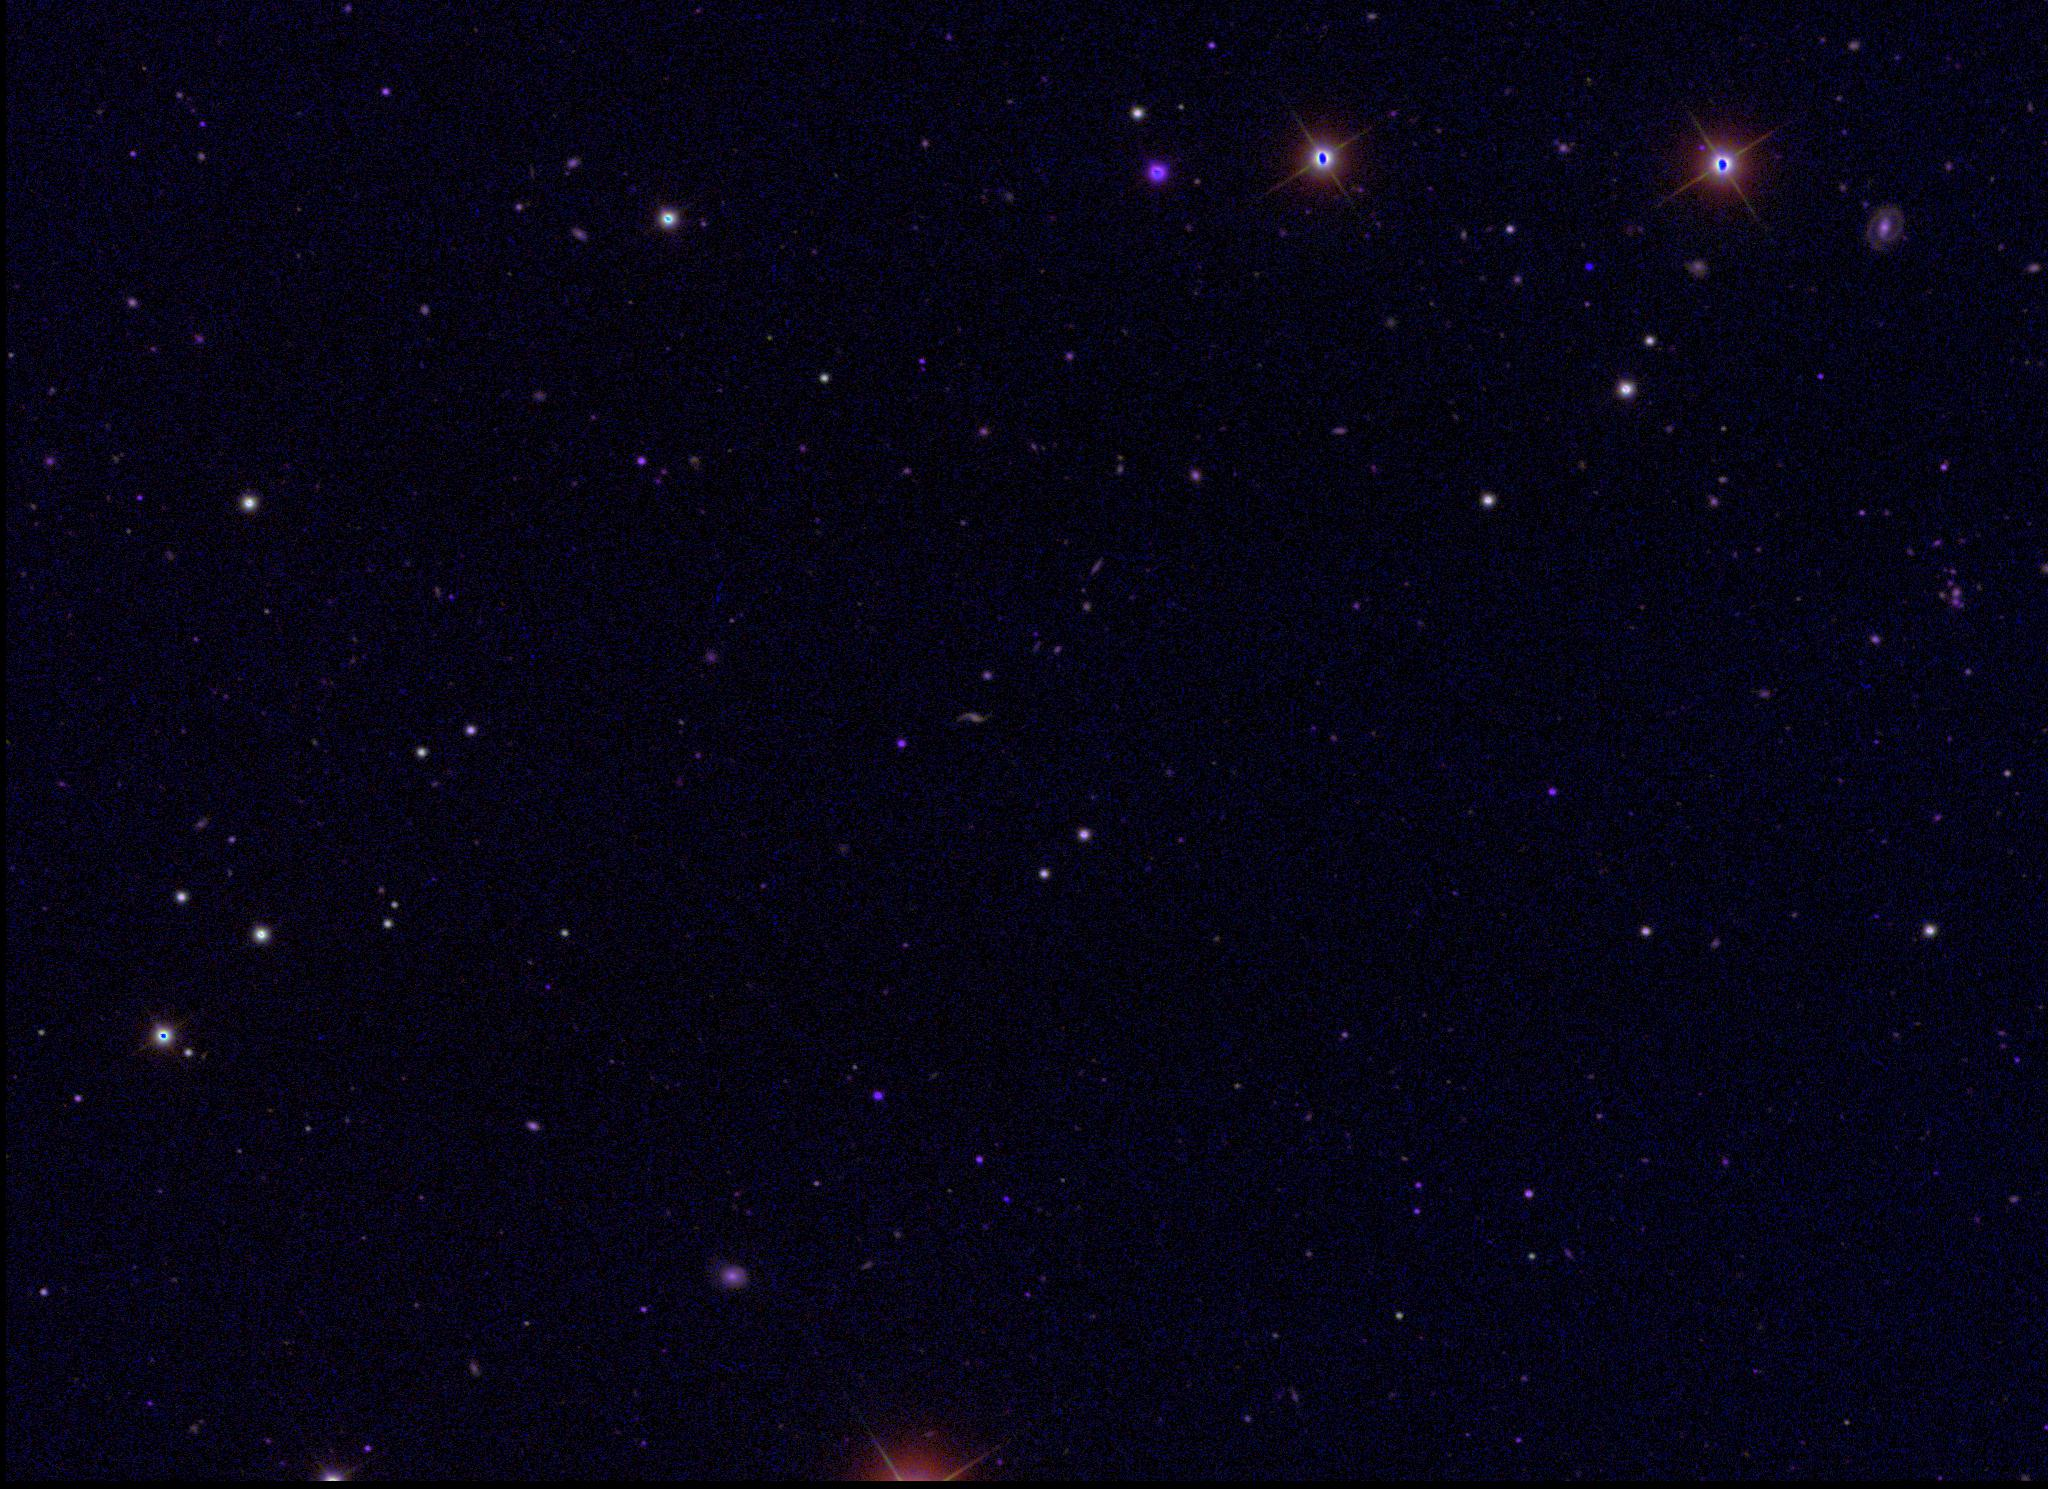L: (1582, 261, 1596, 275)
